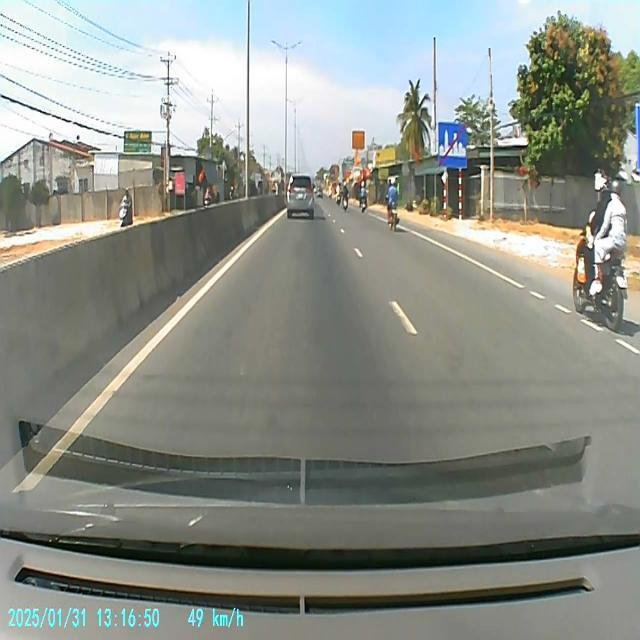421-ket-thuc-khu-dong-dan-cu: (438, 121, 468, 170)
